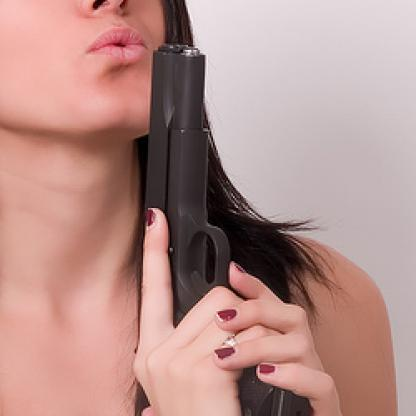gun: (103, 35, 326, 414)
